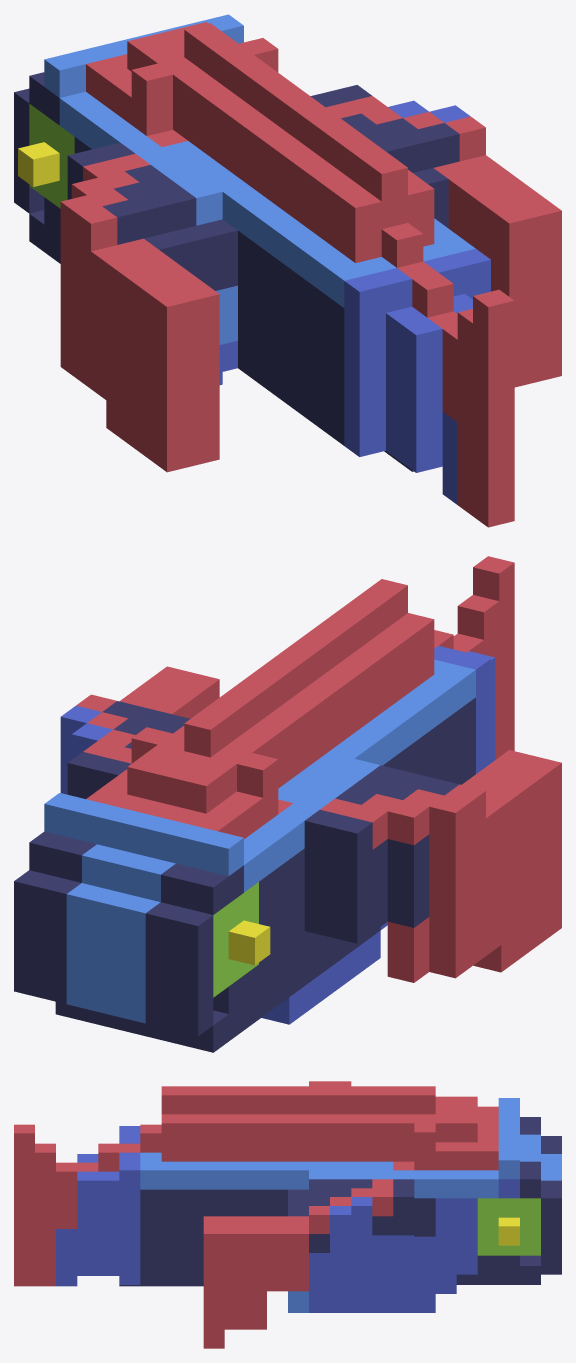
File: fish_2.obj
The picture shows the model from 3 angles, top to bottom: view 1: azimuth 30°, elevation 25°; view 2: azimuth 150°, elevation 25°; view 3: azimuth 270°, elevation 25°; orthographic projection. The views are drawn at different scales.
Bounding box in the file's own units: 1.5 × 1 × 2.6.
Materials: 1 (1 with a texture image).
